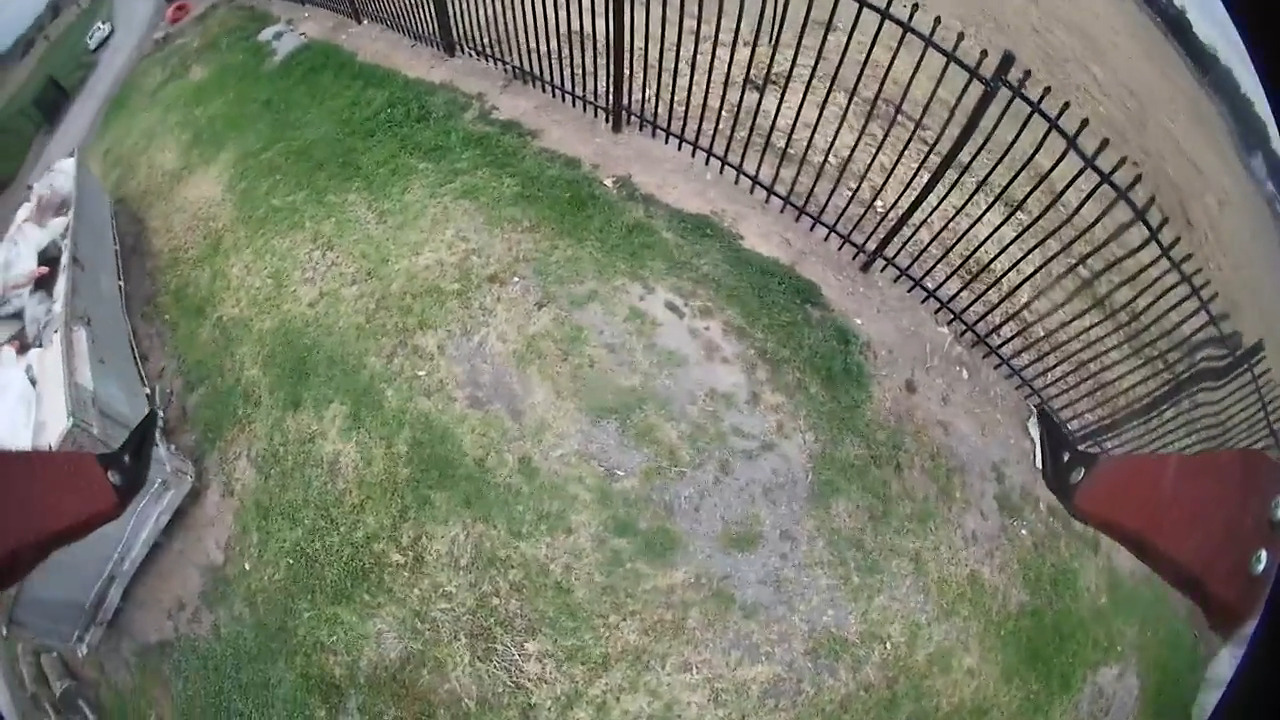Car: (86, 21, 113, 52)
